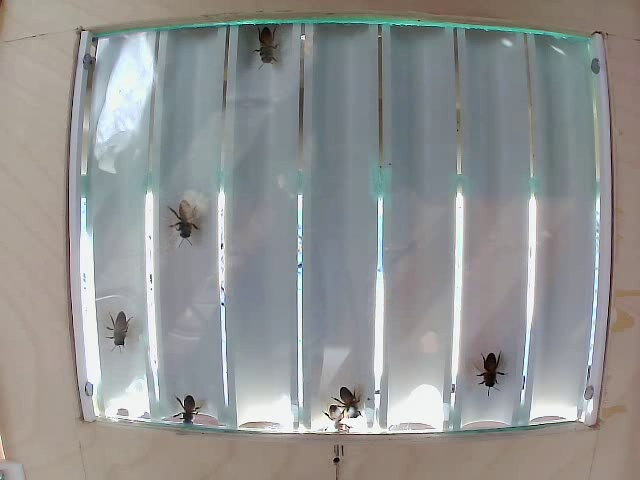bee: (246, 23, 299, 70), (165, 389, 210, 431), (167, 194, 201, 247), (103, 307, 138, 347), (334, 381, 369, 420), (476, 348, 504, 391)
